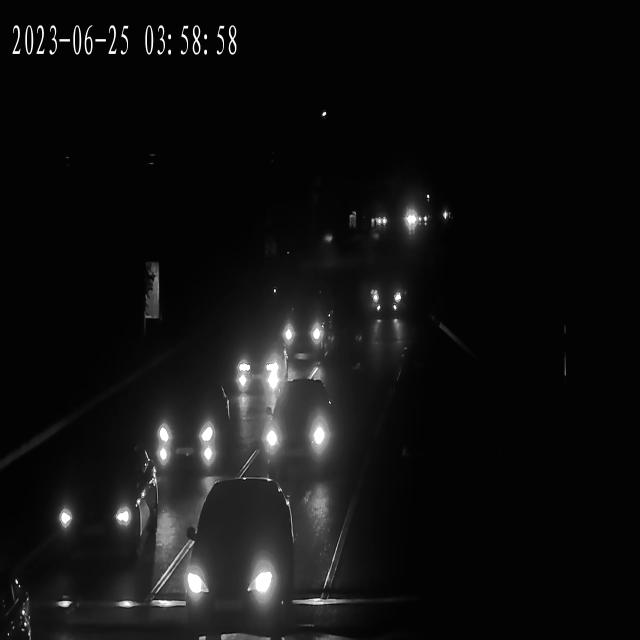Car: (180, 487, 296, 622), (37, 442, 156, 563), (257, 390, 333, 472), (152, 384, 226, 462), (250, 301, 329, 360), (232, 336, 288, 391), (363, 274, 406, 318), (406, 211, 431, 228), (402, 212, 424, 231), (371, 214, 388, 230)
